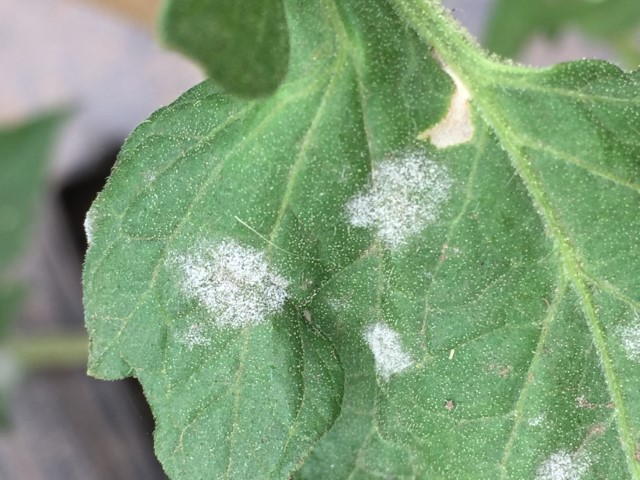oidio: (165, 237, 294, 350), (343, 149, 454, 251), (362, 320, 415, 385), (531, 446, 591, 480), (613, 312, 640, 364)
